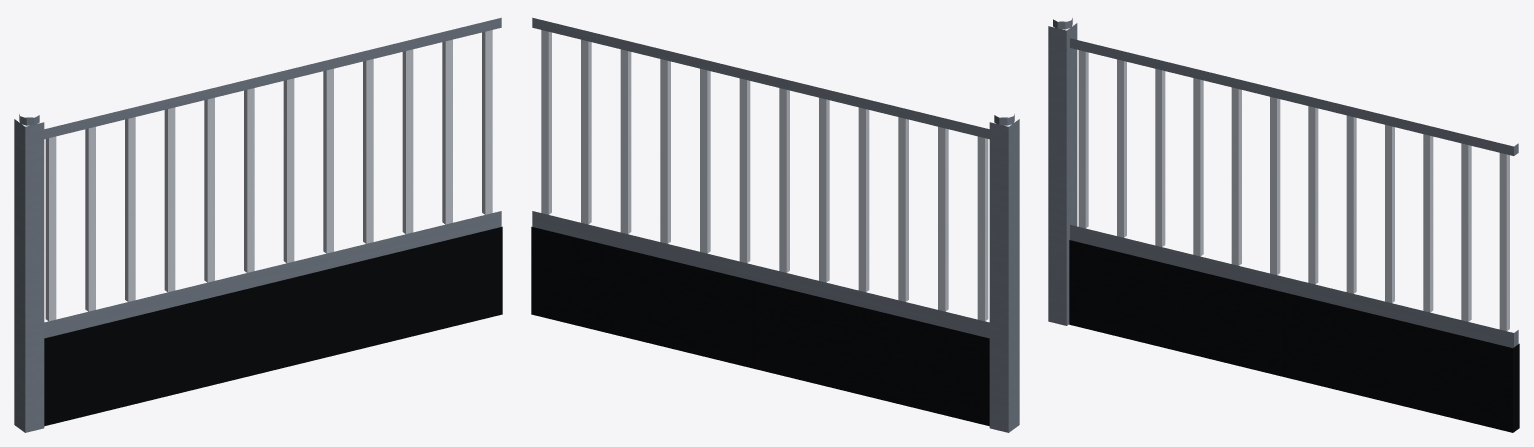
File: tt_play_fence_kick.glb
The picture shows the model from 3 angles, left to right: view 1: azimuth 30°, elevation 25°; view 2: azimuth 150°, elevation 25°; view 3: azimuth 330°, elevation 25°; orthographic projection. The views are drawn at different scales.
Parts seen in each view (by area): view 1: Kick, Picket, Post, RailLow, RailTop; view 2: Kick, Picket, Post, RailLow, RailTop; view 3: Kick, Picket, Post, RailLow, RailTop.
Part boxes in pixels (x1,y1,x2,y2): Kick: [44, 226, 502, 426]; Picket: [45, 30, 492, 321]; Post: [14, 119, 44, 432]; RailLow: [44, 211, 501, 338]; RailTop: [44, 17, 501, 139]; Kick: [531, 226, 989, 426]; Picket: [541, 30, 988, 321]; Post: [989, 119, 1019, 432]; RailLow: [532, 211, 989, 338]; RailTop: [532, 17, 989, 139]; Kick: [1069, 240, 1519, 432]; Picket: [1078, 50, 1509, 331]; Post: [1048, 23, 1077, 325]; RailLow: [1070, 224, 1518, 347]; RailTop: [1070, 38, 1518, 155].
Size of what is drawn, in the model's own units: 2 by 1.25 by 0.08.
3 materials, 3 textured.
